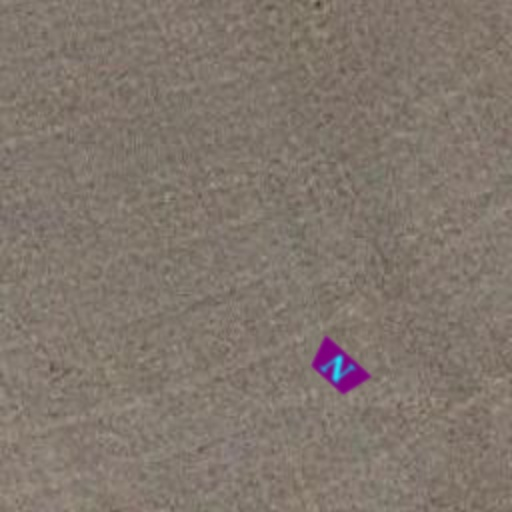trapezoid: (292, 322, 384, 414)
